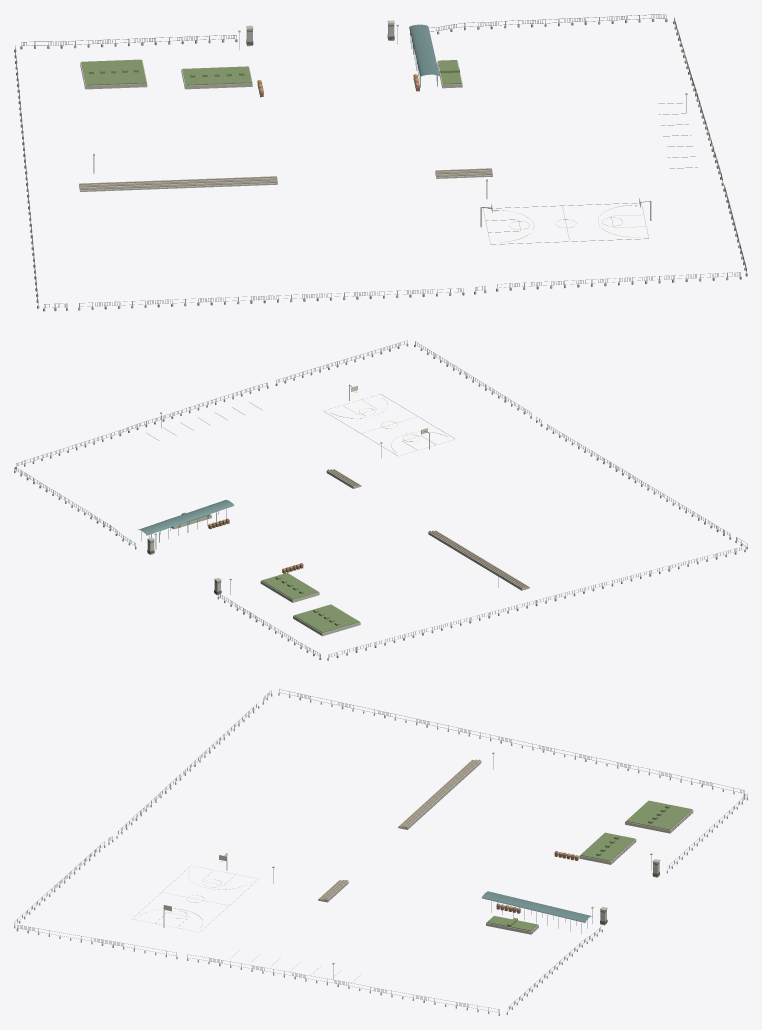
3 views of the same model, one above another, from view 1: azimuth 30°, elevation 25°; view 2: azimuth 150°, elevation 25°; view 3: azimuth 270°, elevation 25° (orthographic). The views are drawn at different scales.
Parts seen in each view (by area): view 1: gate-fence, entry-garden, spectator-terraces, entry-covered-walk, basketball-court-lines; view 2: gate-fence, entry-garden, spectator-terraces, entry-covered-walk, basketball-court-lines; view 3: gate-fence, entry-garden, spectator-terraces, entry-covered-walk.
Part boxes in pixels (left/top/right/bottom): gate-fence: left=14, top=14, right=747, bottom=311; entry-garden: left=80, top=59, right=462, bottom=97; spectator-terraces: left=79, top=168, right=492, bottom=191; entry-covered-walk: left=409, top=24, right=439, bottom=86; basketball-court-lines: left=483, top=202, right=648, bottom=244; gate-fence: left=14, top=340, right=747, bottom=660; entry-garden: left=165, top=512, right=360, bottom=636; spectator-terraces: left=326, top=469, right=529, bottom=590; entry-covered-walk: left=138, top=499, right=234, bottom=542; basketball-court-lines: left=323, top=394, right=455, bottom=456; gate-fence: left=14, top=689, right=747, bottom=1015; entry-garden: left=486, top=800, right=693, bottom=934; spectator-terraces: left=318, top=759, right=481, bottom=902; entry-covered-walk: left=482, top=891, right=592, bottom=933.
Bounding box in the file's own units: 155 × 5.35 × 147.
